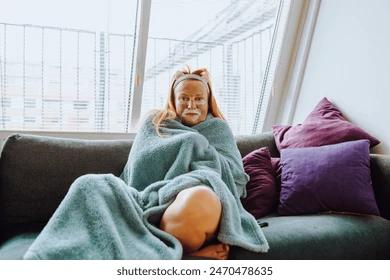blanket: (22, 109, 271, 261)
